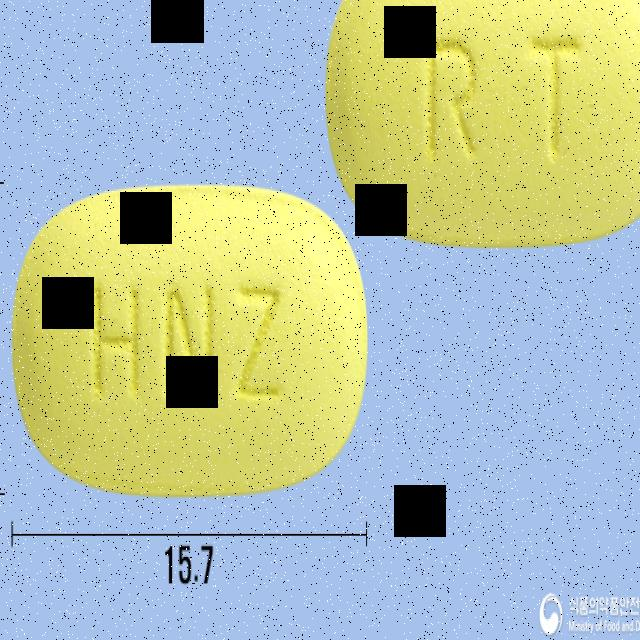Claniz - 500mg: (6, 178, 372, 502), (324, 0, 640, 249)
